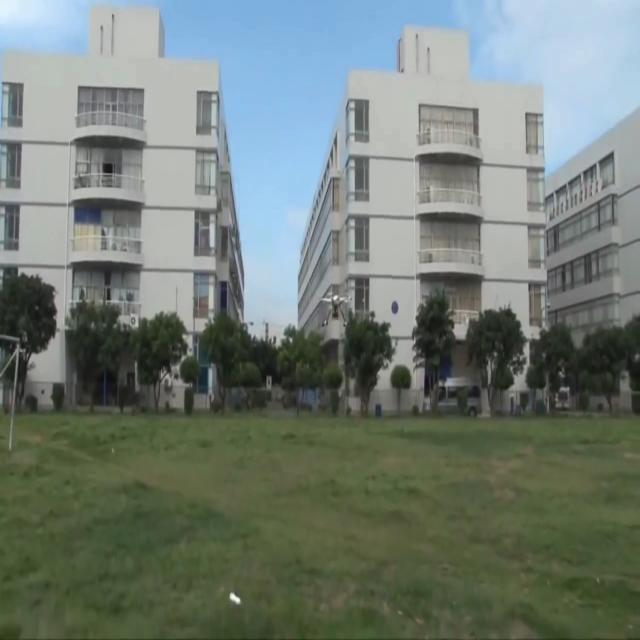drone: (319, 291, 352, 327)
